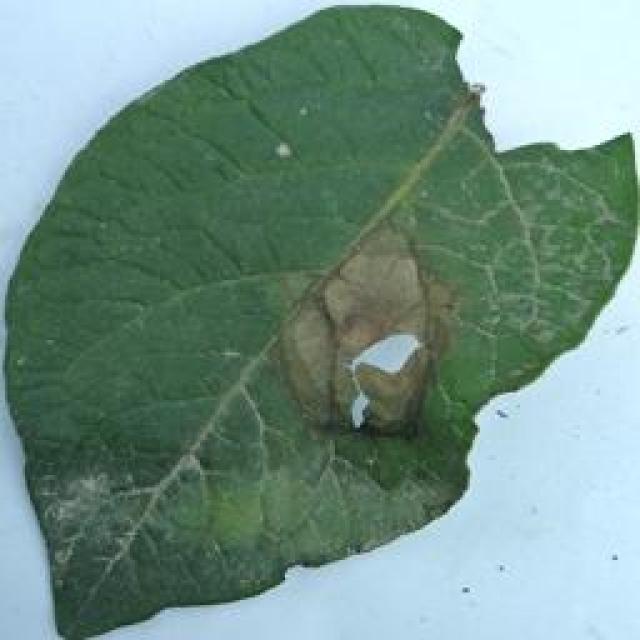Potato_Late_Blight: (8, 6, 630, 632)
